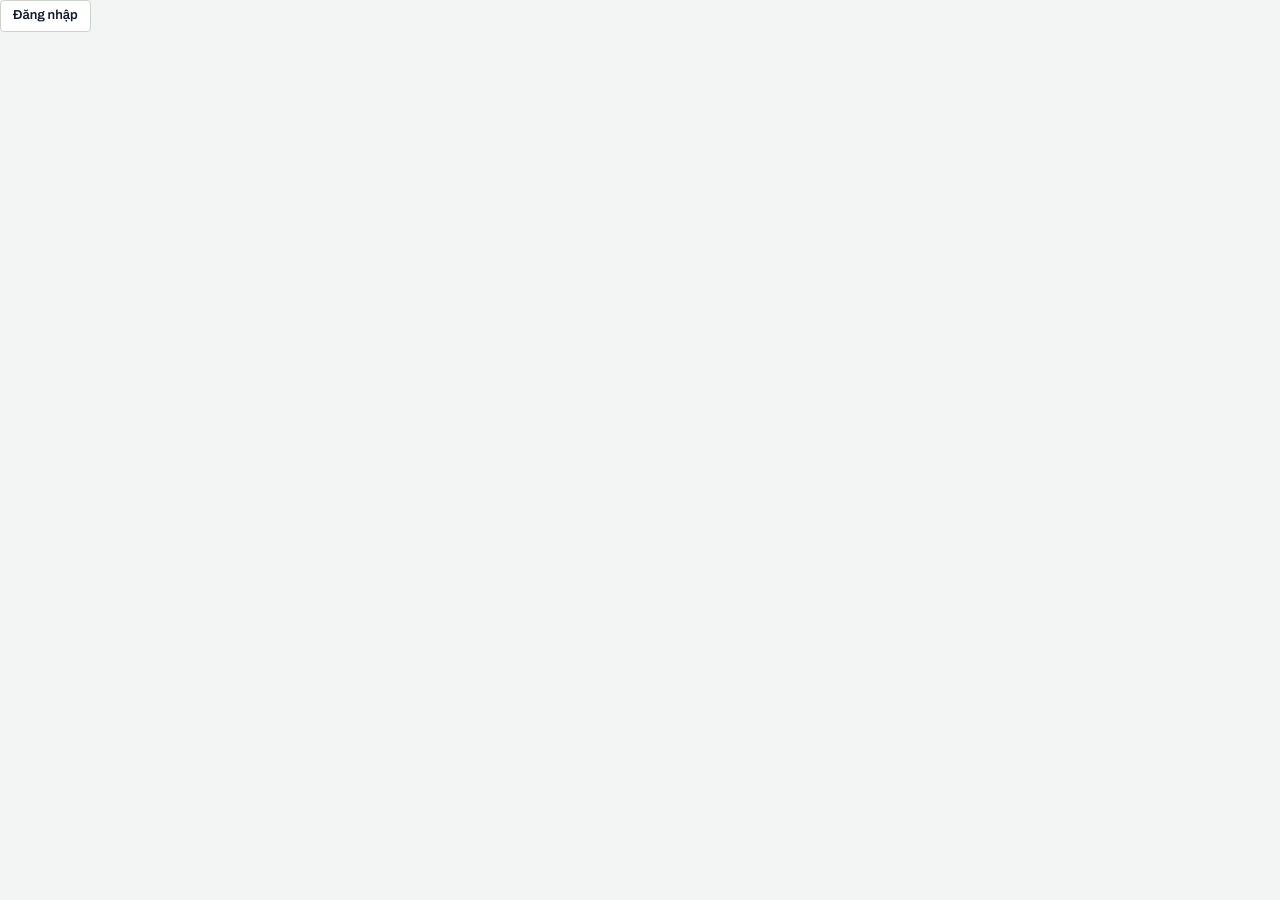
Test: AuthWidget › opens the sign-in dialog from the Đăng nhập button
Click the button "Đăng nhập" at (45, 16), box left=0, top=0, right=91, bottom=32
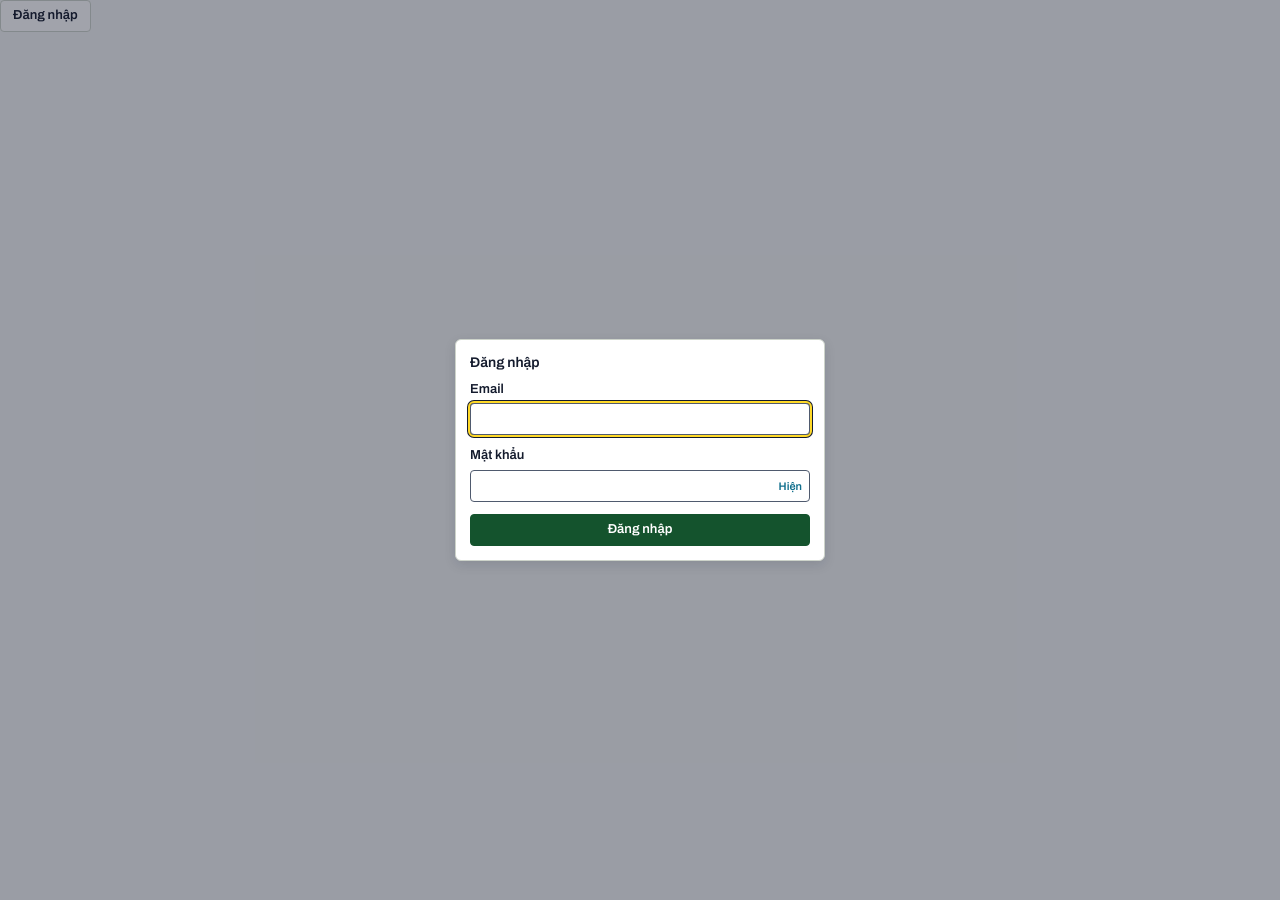
Expected: the dialog "Đăng nhập" is shown, left=455, top=339, right=825, bottom=561
Expected: the field labelled "Email" is shown, left=470, top=403, right=810, bottom=435
